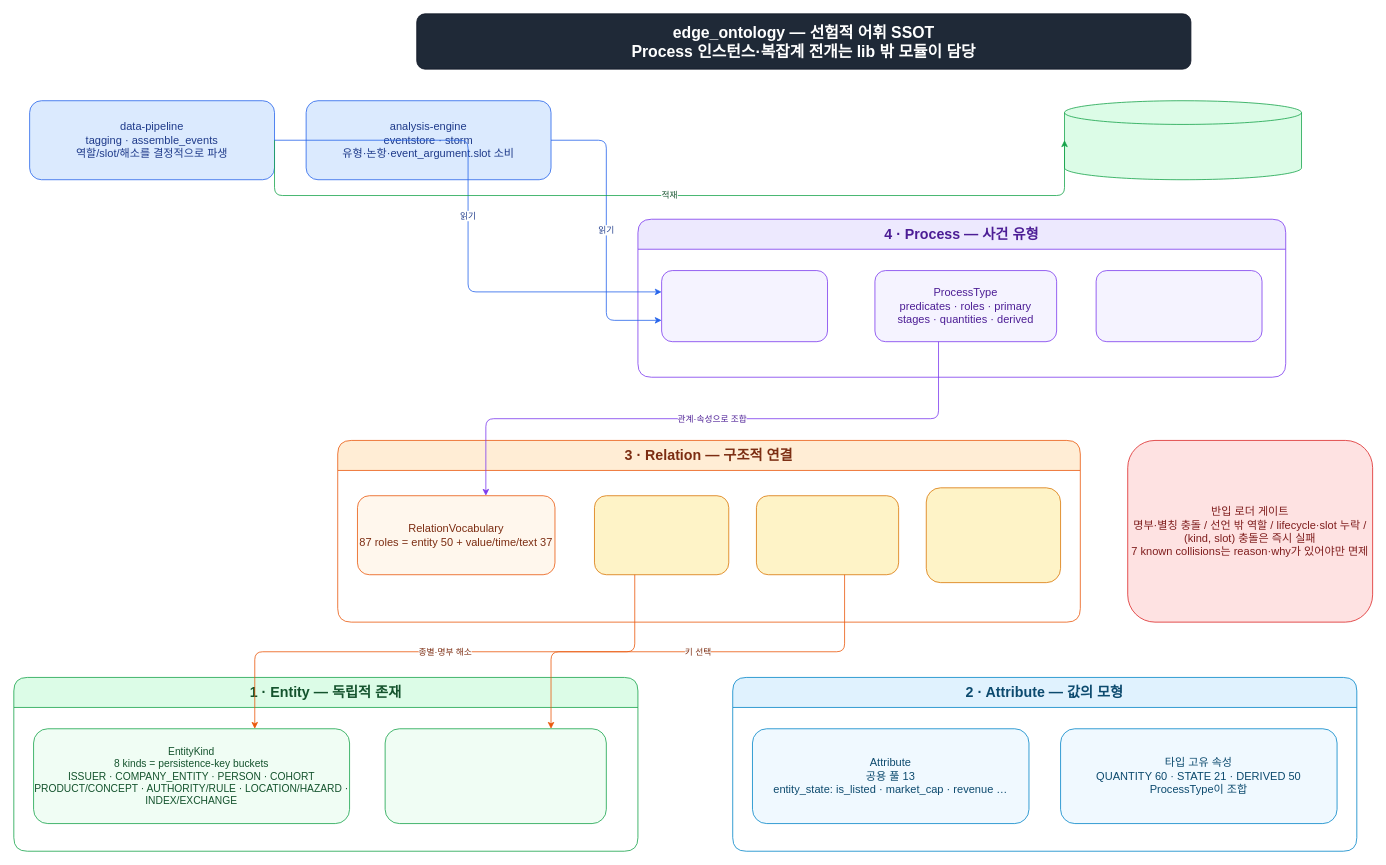
The diagram is 1386 pixels wide and 865 high, and some of its shapes have lost their labels. The centre of each missing label's shape, as x and y in pixels:
"AuthorityRegistry 68 closed-set actors 5 sections · alias normalization" goes at (x=495, y=776).
"PostgreSQL source_event · event_argument slot · entity_id · entity_kind" goes at (x=1183, y=140).
"ProcessRegistry 53 event types · 7 families" goes at (x=744, y=306).
"resources/process/ types/*.yaml · lifecycle_models thread contract" goes at (x=1178, y=306).
"논항 자리 사건에서 어느 자리인가? 154 (type, role) pairs subject · object · qualifier" goes at (x=993, y=535).
"정체성 무엇으로 키 삼는가? REGISTRY · MINT · NONE" goes at (x=827, y=535).
"종별 무엇인가? role_kinds → EntityKind" goes at (x=661, y=535).
